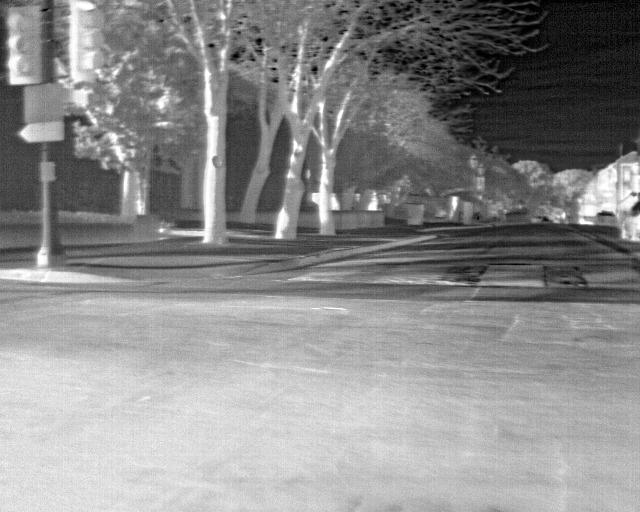car: (619, 201, 639, 244), (596, 210, 617, 227)
